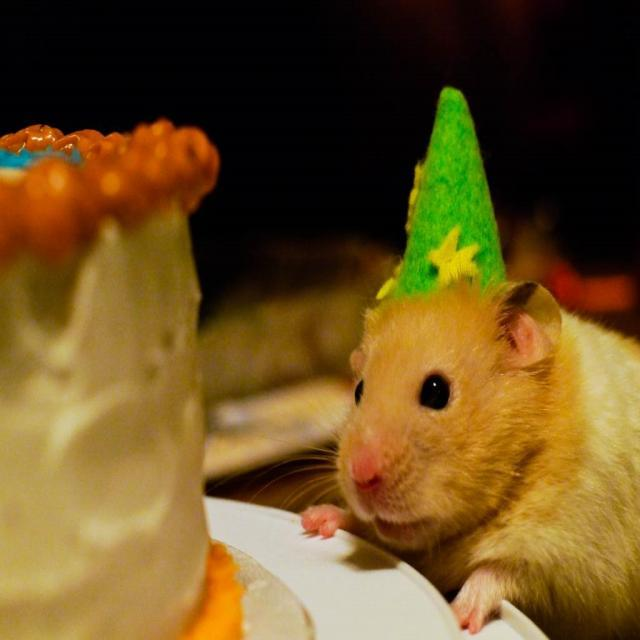rat: (260, 264, 640, 640)
